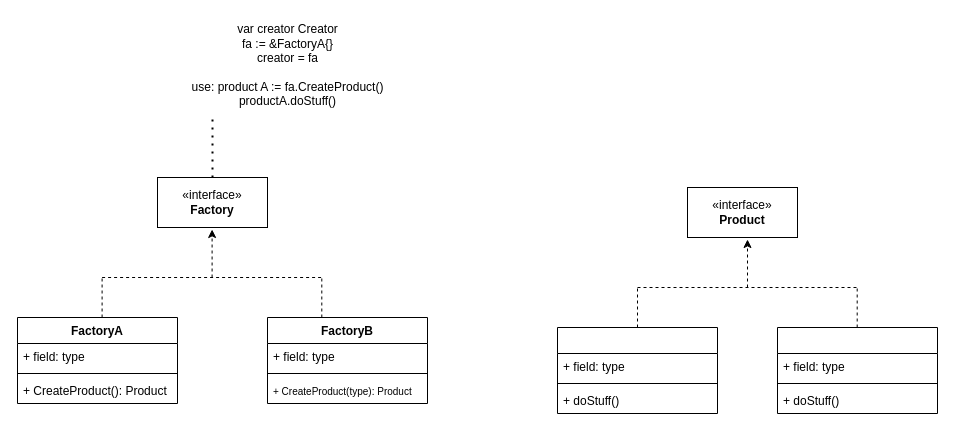
Image size: 955x433. Some labels were removed from this diagram. The shapes that lost their labels are listed below. From the top down, each one's box as (x1, y1, x2, y2) in pixels, then its label:
(556, 326, 718, 414): ProductA
(776, 326, 938, 414): ProductB
